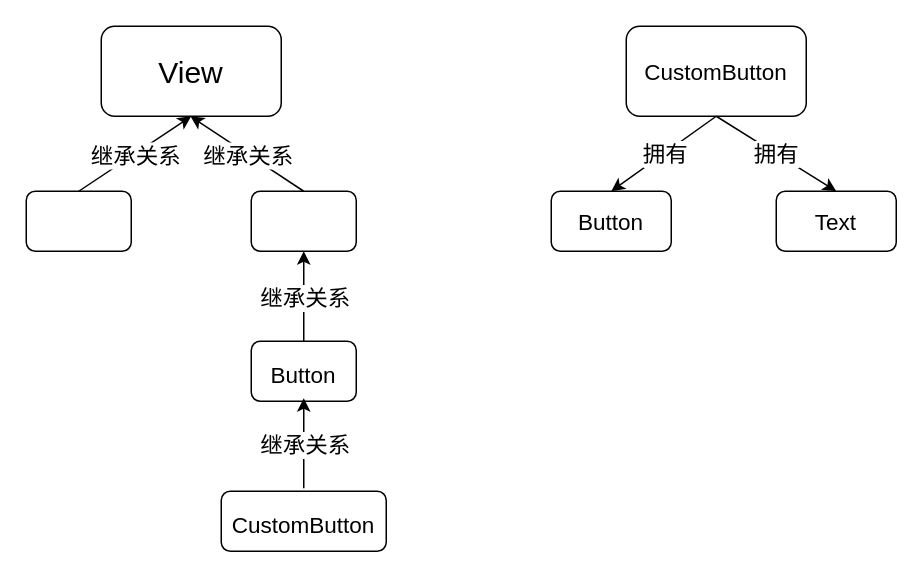
Some shapes in this 923 by 578 pixel diagram are drawn without their labels. Here are the shapes that lost their labels. From the top down, the centre of each, then its label:
point (78, 220): ViewX
point (303, 220): TestView
